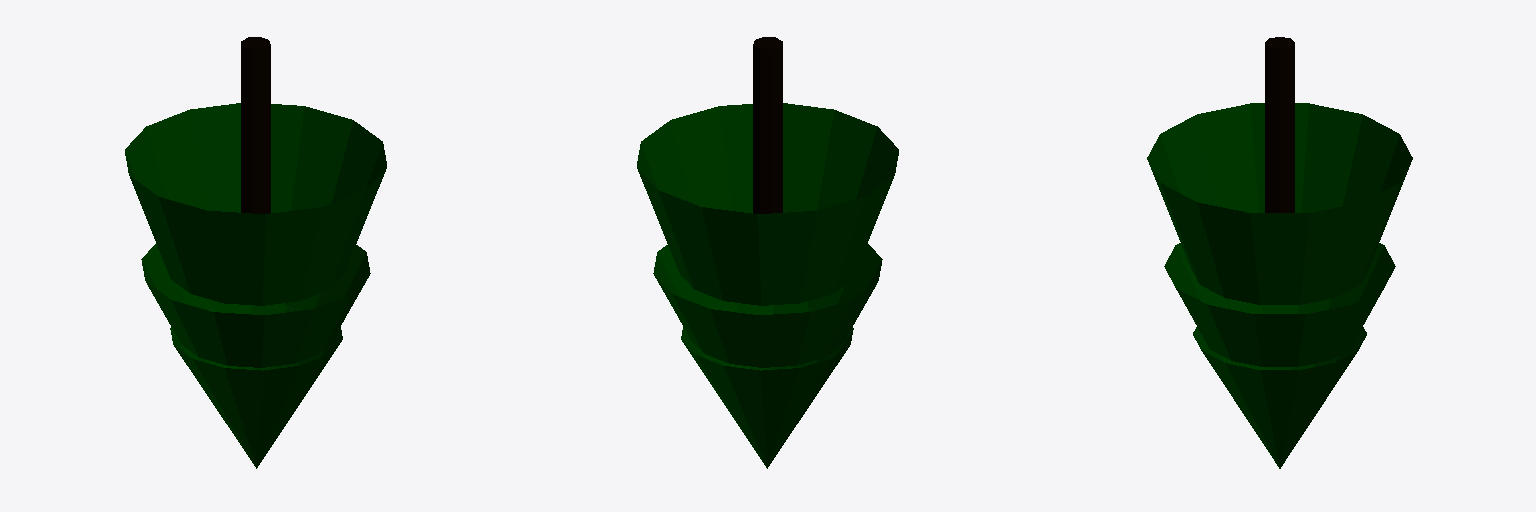
Rendered from thattree.obj.
The picture shows the model from 3 angles: view 1: azimuth 30°, elevation 25°; view 2: azimuth 150°, elevation 25°; view 3: azimuth 270°, elevation 25°; orthographic projection.
Parts seen in each view (by area): view 1: Cylinder, Cylinder.002, Cylinder.003, Cylinder.001; view 2: Cylinder, Cylinder.002, Cylinder.003, Cylinder.001; view 3: Cylinder, Cylinder.002, Cylinder.003, Cylinder.001.
Boxes of the visible parts, x1,y1,x2,y2 form: Cylinder: [125, 103, 386, 305]; Cylinder.002: [141, 244, 370, 367]; Cylinder.003: [170, 304, 342, 468]; Cylinder.001: [241, 37, 270, 213]; Cylinder: [637, 103, 898, 305]; Cylinder.002: [653, 244, 882, 367]; Cylinder.003: [681, 304, 853, 468]; Cylinder.001: [753, 37, 782, 213]; Cylinder: [1147, 103, 1412, 304]; Cylinder.002: [1164, 243, 1395, 366]; Cylinder.003: [1193, 304, 1366, 468]; Cylinder.001: [1265, 37, 1294, 212].
Bounding box in the file's own units: 2.24 × 4.07 × 2.3.